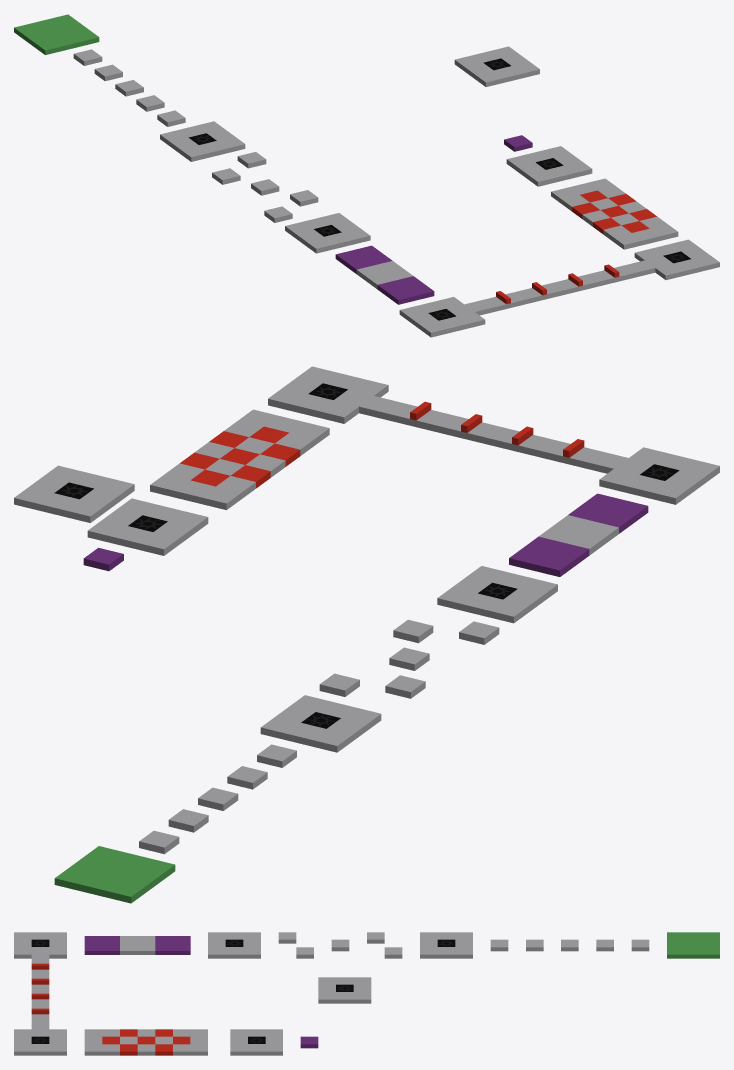
Rendered from blox.glb.
3 renders of one model, top to bottom at view 1: azimuth 30°, elevation 25°; view 2: azimuth 150°, elevation 25°; view 3: azimuth 270°, elevation 25°, orthographic. The views are drawn at different scales.
Visible parts, largest first — view 1: Startspawn1; view 2: Startspawn1; view 3: Startspawn1, Trampoline1, Part15, Part42, Part59, Part34, Part35, Part58, Part1, Part3, Part10, Part11 (+6 smaller).
Boxes of the visible parts, x1,y1,x2,y2 form: Startspawn1: (14, 14, 99, 54); Startspawn1: (54, 846, 175, 903); Startspawn1: (667, 932, 719, 958); Trampoline1: (300, 1036, 318, 1048); Part15: (631, 939, 649, 951); Part42: (331, 939, 349, 951); Part59: (490, 939, 508, 951); Part34: (596, 939, 613, 951); Part35: (561, 939, 578, 951); Part58: (526, 939, 543, 951); Part1: (225, 947, 243, 958); Part3: (278, 932, 296, 943); Part10: (437, 947, 455, 958); Part11: (137, 1044, 155, 1055).
Size of the model in its own units: 64 by 14.02 by 160.
Materials: 5 (1 with a texture image).
